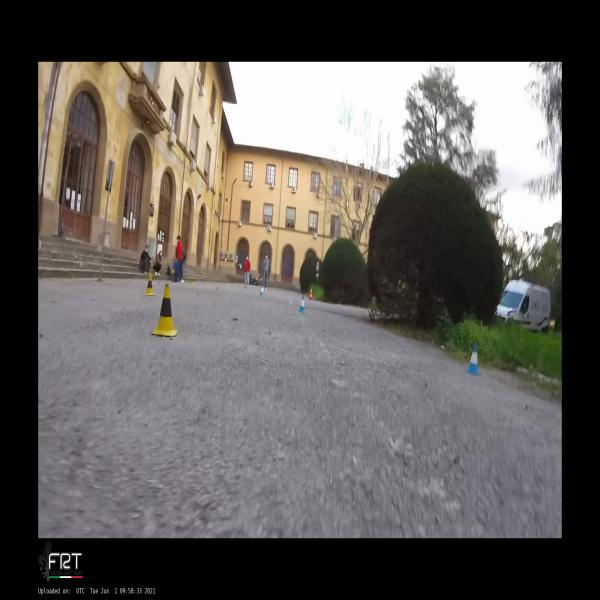blue_cone: (465, 344, 482, 376), (298, 295, 306, 313), (260, 286, 264, 296)
large_orange_cone: (309, 287, 313, 301)
yellow_cone: (151, 284, 179, 338), (144, 272, 155, 297), (190, 276, 195, 285)
